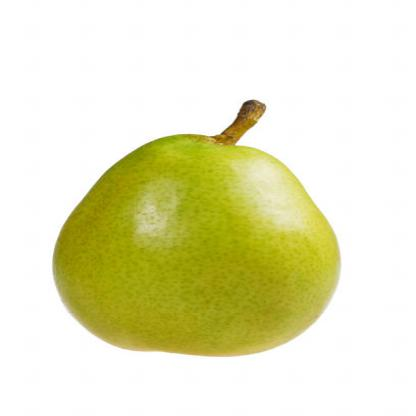Paer: (74, 89, 354, 364)
